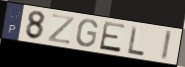8: (25, 10, 47, 41)
E: (98, 20, 127, 54)
G: (75, 19, 99, 49)
I: (160, 29, 174, 62)
L: (127, 25, 146, 58)
Z: (46, 13, 76, 46)
